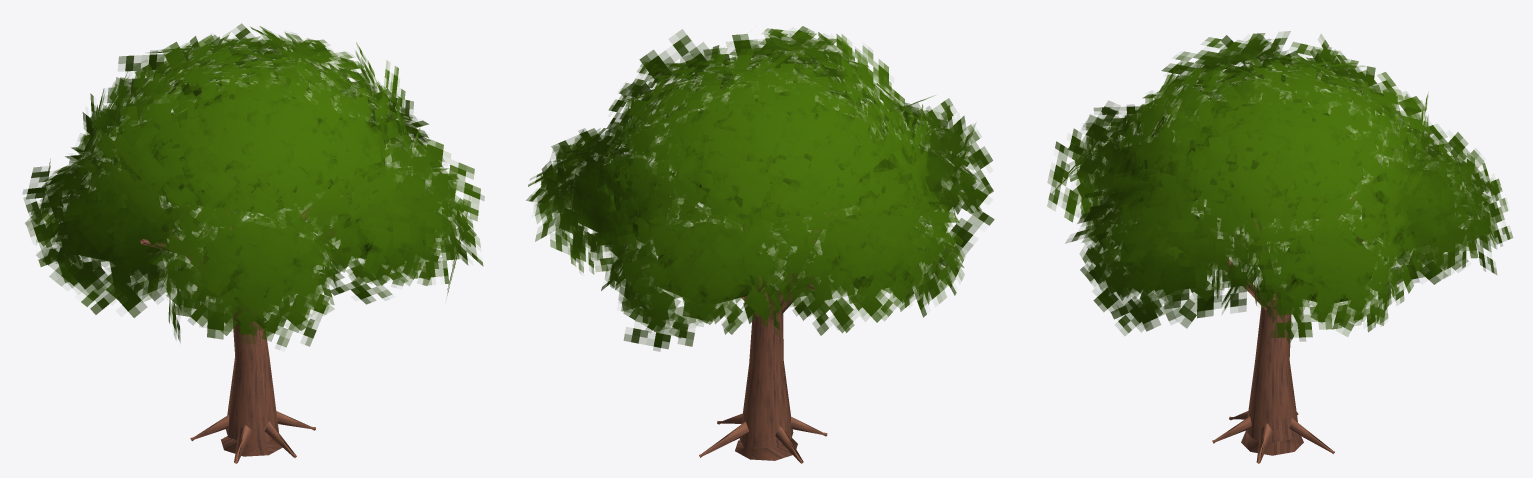
File: linden_broad.glb
3 views of the same model, side by side, from view 1: azimuth 30°, elevation 25°; view 2: azimuth 150°, elevation 25°; view 3: azimuth 270°, elevation 25° (orthographic). The views are drawn at different scales.
Parts seen in each view (by area): view 1: linden_broad_Leaf_Dark, linden_broad_Bark_Brown, linden_broad_Core_Dark; view 2: linden_broad_Leaf_Dark, linden_broad_Bark_Brown, linden_broad_Core_Dark; view 3: linden_broad_Leaf_Dark, linden_broad_Bark_Brown, linden_broad_Core_Dark.
Boxes of the visible parts, bbox=[...] form: linden_broad_Leaf_Dark: bbox=[23, 23, 484, 347]; linden_broad_Bark_Brown: bbox=[140, 206, 335, 463]; linden_broad_Core_Dark: bbox=[69, 94, 435, 301]; linden_broad_Leaf_Dark: bbox=[526, 26, 994, 351]; linden_broad_Bark_Brown: bbox=[654, 216, 828, 463]; linden_broad_Core_Dark: bbox=[578, 92, 940, 305]; linden_broad_Leaf_Dark: bbox=[1047, 31, 1512, 344]; linden_broad_Bark_Brown: bbox=[1136, 198, 1363, 463]; linden_broad_Core_Dark: bbox=[1108, 101, 1451, 302].
Size of the model in its own units: 9.91 by 8.81 by 9.68.
Materials: 3 (2 with a texture image).
